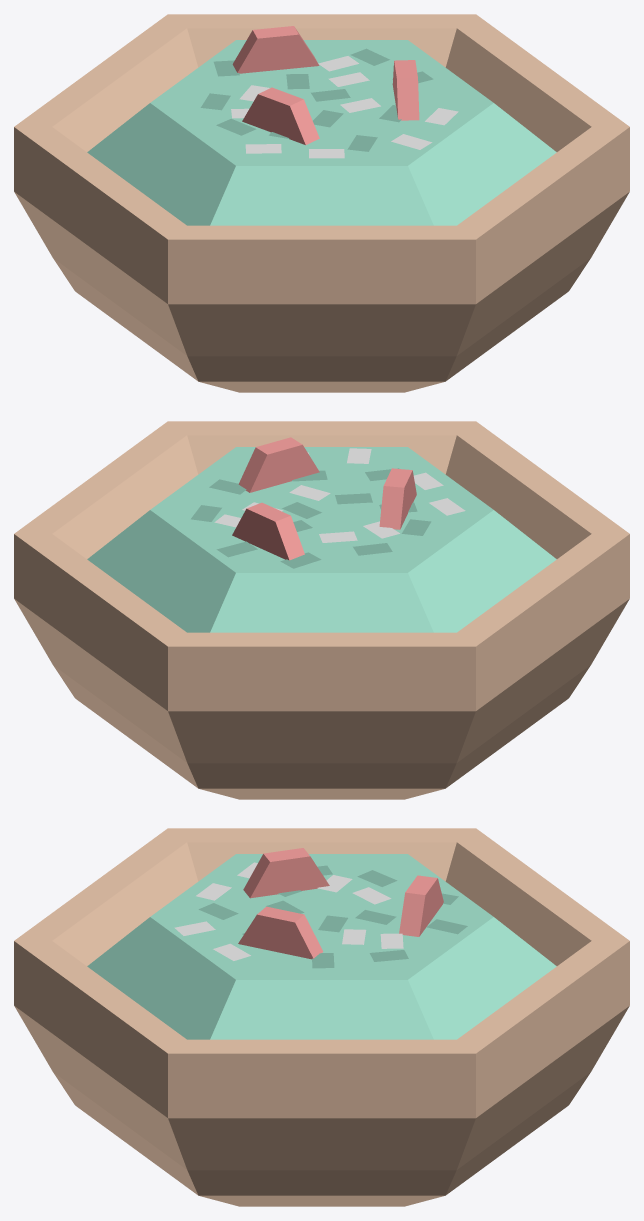
File: friedRice.dae
The picture shows the model from 3 angles, top to bottom: view 1: azimuth 30°, elevation 25°; view 2: azimuth 150°, elevation 25°; view 3: azimuth 270°, elevation 25°; orthographic projection.
Parts seen in each view (by area): view 1: salad; view 2: salad; view 3: salad.
Part boxes in pixels (bbox=[...]): salad: bbox=[14, 14, 629, 392]; salad: bbox=[14, 421, 629, 799]; salad: bbox=[14, 828, 629, 1206].
Bounding box in the file's own units: 0.5022 × 0.5798 × 0.2734.
